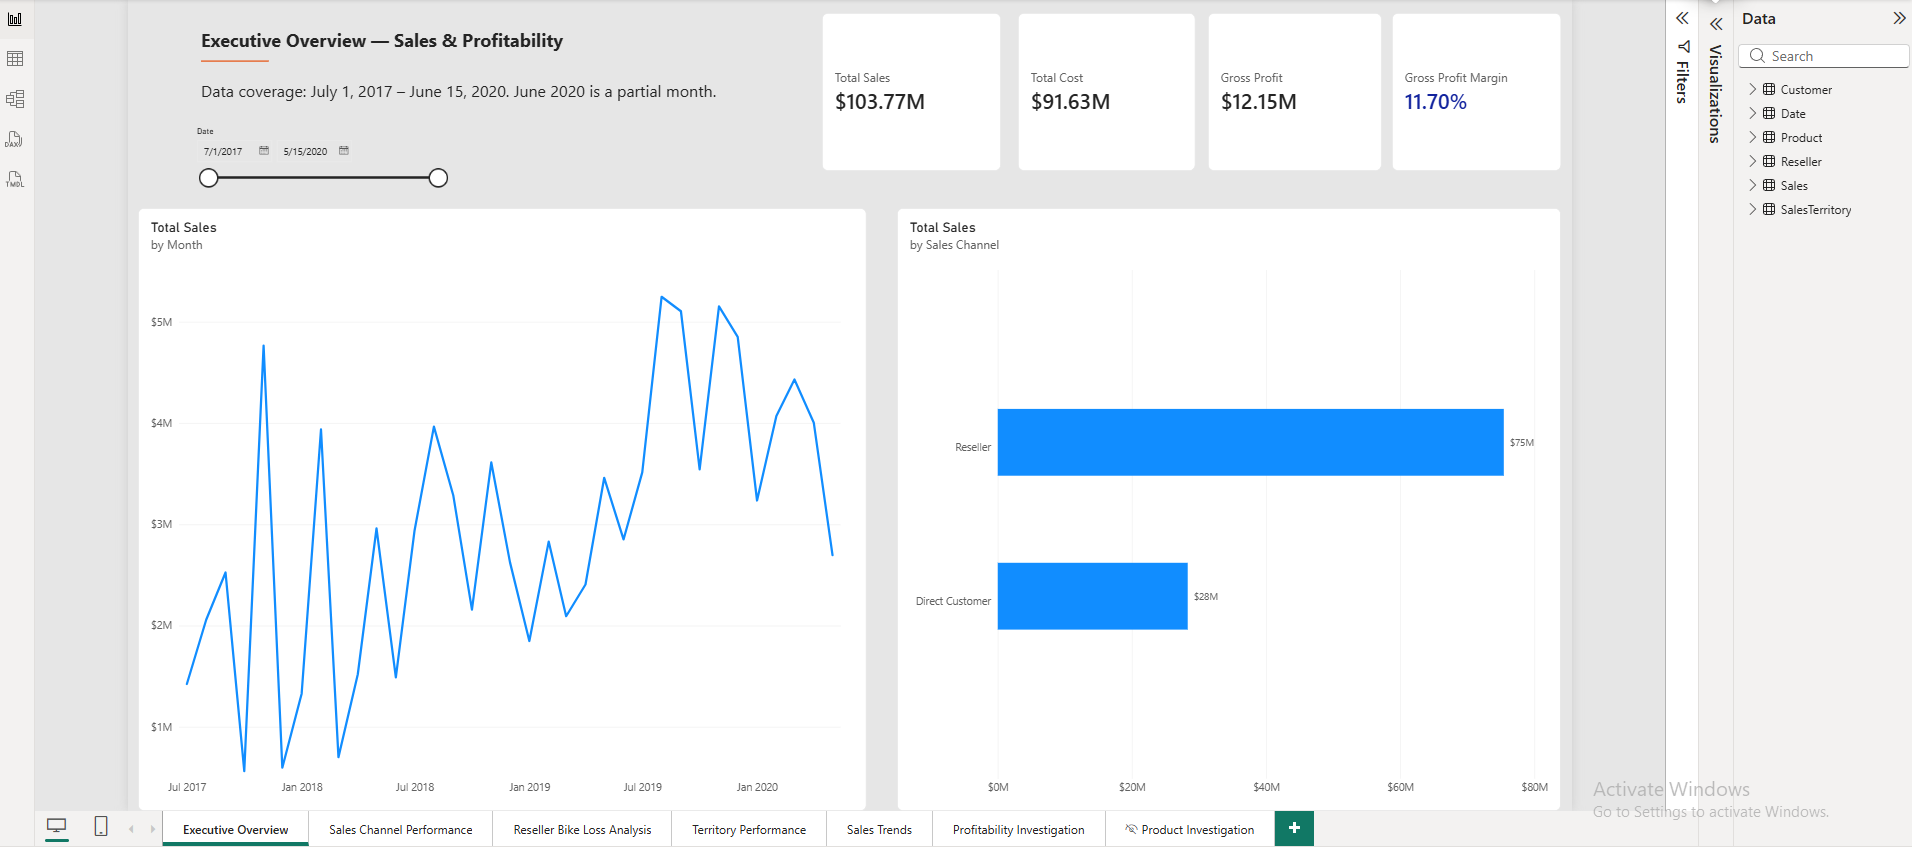

This screenshot's page, from the dashboard's own definition file:
{"tool":"powerbi","page":{"name":"Executive Overview","canvas":[1920,1080],"ordinal":0},"visuals":[{"type":"cardVisual","fields":{"Data":["Sales.Total Sales"]},"box":[923.3,18.3,238.3,210],"z":0},{"type":"cardVisual","fields":{"Data":["Sales.Total Cost"]},"box":[1183.3,18.3,236.7,210],"z":1000},{"type":"cardVisual","fields":{"Data":["Sales.Gross Profit"]},"box":[1436.7,18.3,231.7,210],"z":2000},{"type":"cardVisual","fields":{"Data":["Sales.Gross Profit Margin"]},"box":[1681.7,18.3,225,210],"z":3000},{"type":"lineChart","fields":{"Category":["Date.Month"],"Y":["Sales.Total Sales"]},"box":[13.3,278.3,968.8,802.4],"z":4000},{"type":"clusteredBarChart","fields":{"Category":["Sales.Sales Channel"],"Y":["Sales.Total Sales"]},"box":[1023.3,278.3,882.7,802.4],"z":5000},{"type":"slicer","fields":{"Values":["Date.Date"]},"box":[84.3,168.6,345,93.3],"z":6000},{"type":"textbox","box":[96.7,36.7,703.3,118.3],"z":7000},{"type":"shape","box":[96.6,57.6,90,50.8],"z":8000}]}

Visuals, with their boxes on the page's 1920x1080 design canvas (x1, y1, x2, y2). These are canvas units, not pixel positions in the 1912x847 screenshot, which may show the page scaled, cropped or inside an application window:
cardVisual - Sales.Total Sales: left=923, top=18, right=1162, bottom=228
cardVisual - Sales.Total Cost: left=1183, top=18, right=1420, bottom=228
cardVisual - Sales.Gross Profit: left=1437, top=18, right=1668, bottom=228
cardVisual - Sales.Gross Profit Margin: left=1682, top=18, right=1907, bottom=228
lineChart - Date.Month x Sales.Total Sales: left=13, top=278, right=982, bottom=1081
clusteredBarChart - Sales.Sales Channel x Sales.Total Sales: left=1023, top=278, right=1906, bottom=1081
slicer - Date.Date: left=84, top=169, right=429, bottom=262
textbox: left=97, top=37, right=800, bottom=155
shape: left=97, top=58, right=187, bottom=108
